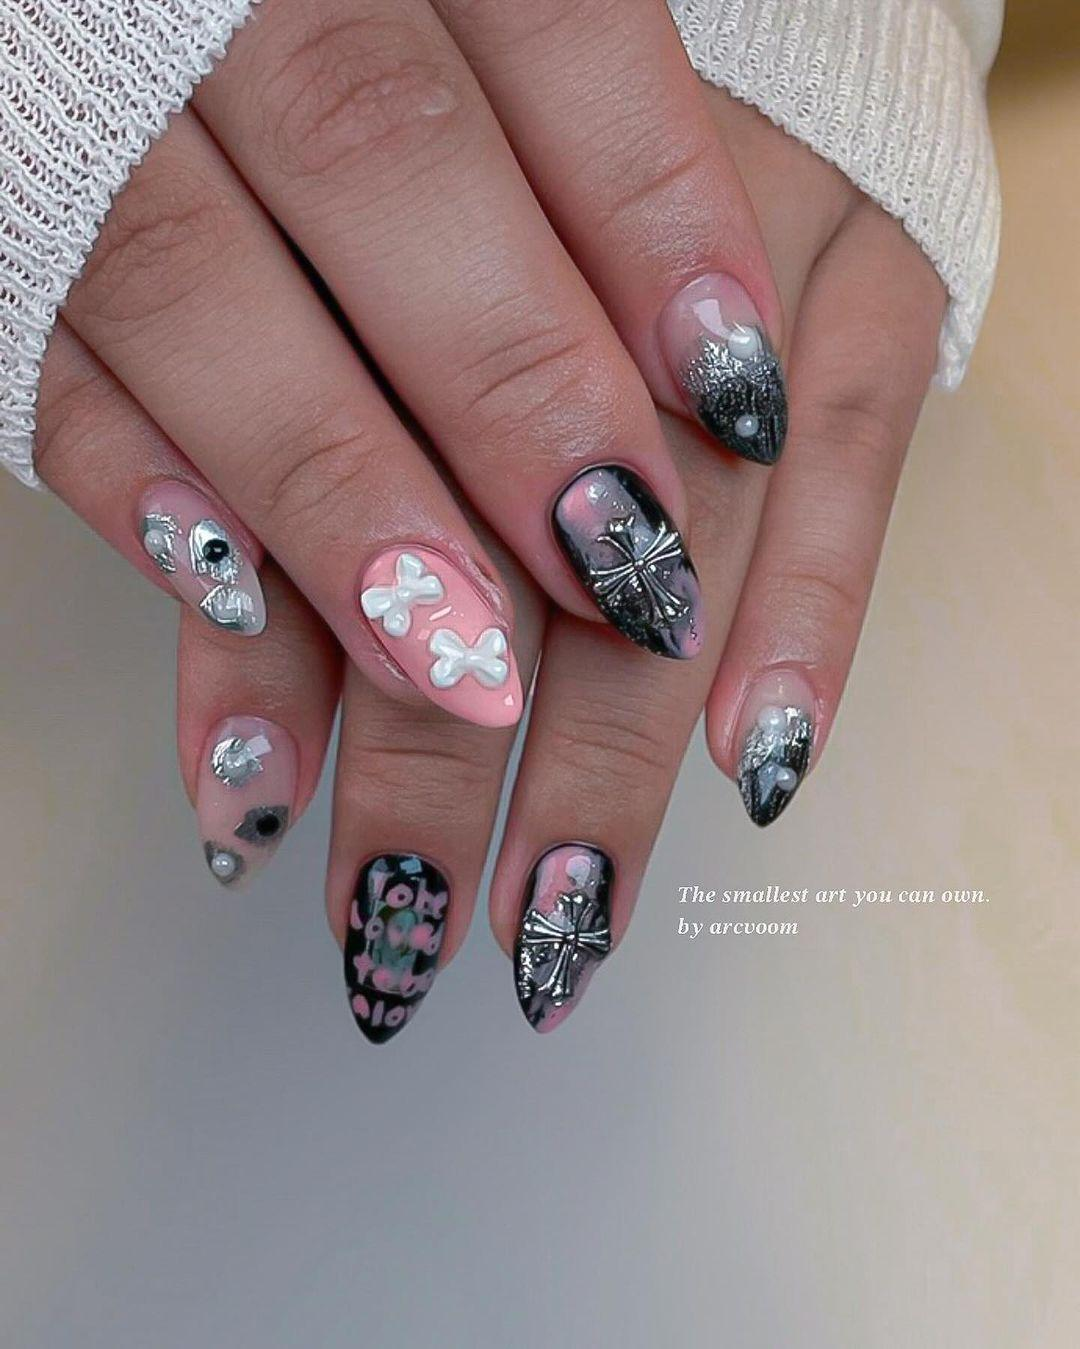nail: (355, 537, 523, 729), (548, 458, 704, 661), (654, 268, 789, 466), (134, 475, 267, 637), (342, 849, 451, 1044), (512, 840, 614, 1032), (192, 712, 300, 885), (730, 666, 821, 827)
